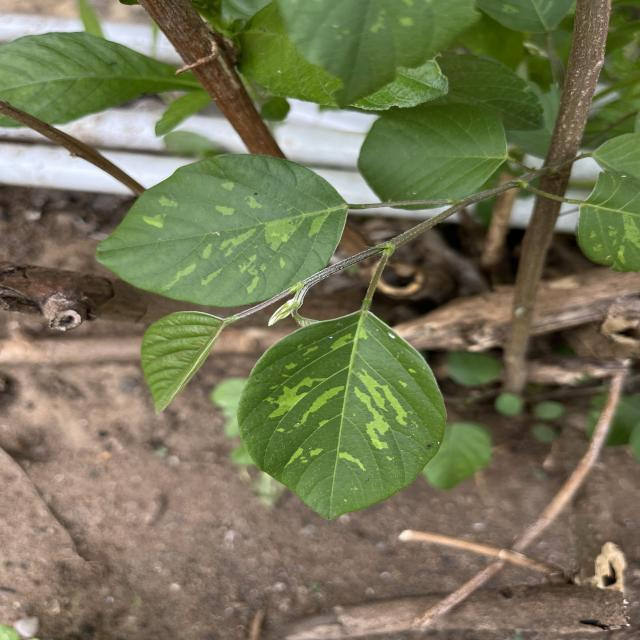Desmodium gangeticum: (233, 309, 452, 523)
